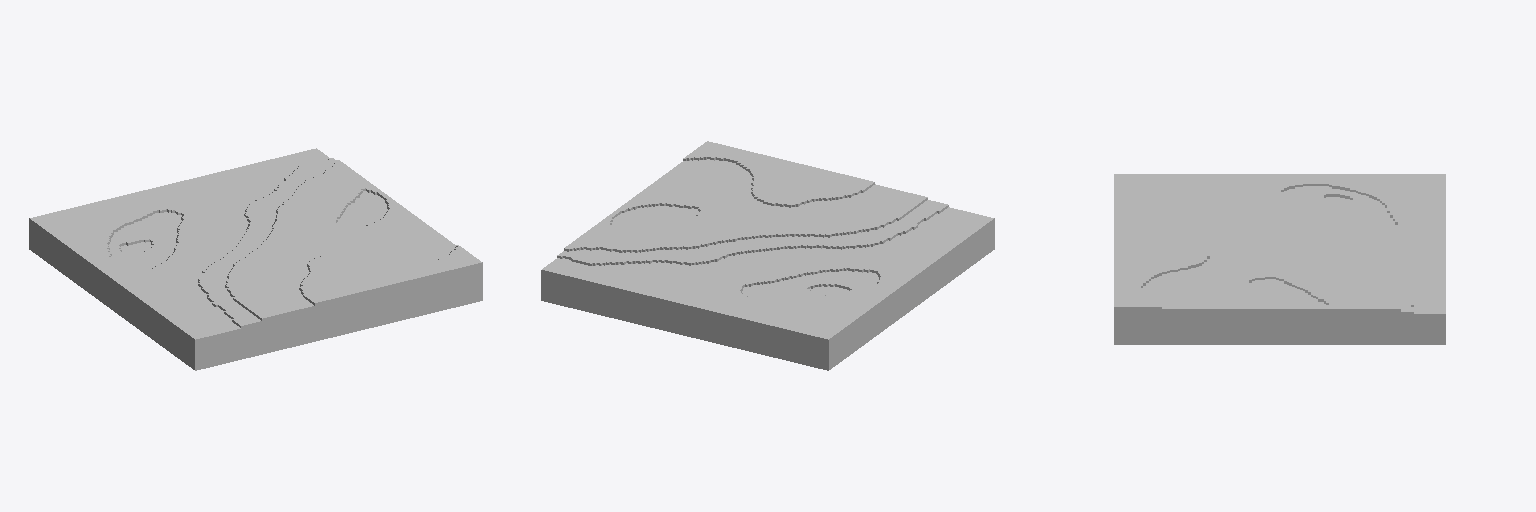
Rendered from Map (3).obj.
3 views of the same model, side by side, from view 1: azimuth 30°, elevation 25°; view 2: azimuth 150°, elevation 25°; view 3: azimuth 270°, elevation 25° (orthographic).
Visible parts, largest first — view 1: ALL MAP!!!!!!!!!!!-0; view 2: ALL MAP!!!!!!!!!!!-0; view 3: ALL MAP!!!!!!!!!!!-0.
Boxes of the visible parts, x1=… form: ALL MAP!!!!!!!!!!!-0: x1=29, y1=148, x2=482, y2=370; ALL MAP!!!!!!!!!!!-0: x1=541, y1=141, x2=994, y2=370; ALL MAP!!!!!!!!!!!-0: x1=1114, y1=174, x2=1445, y2=344.
Size of the model in its own units: 125 by 16 by 125.